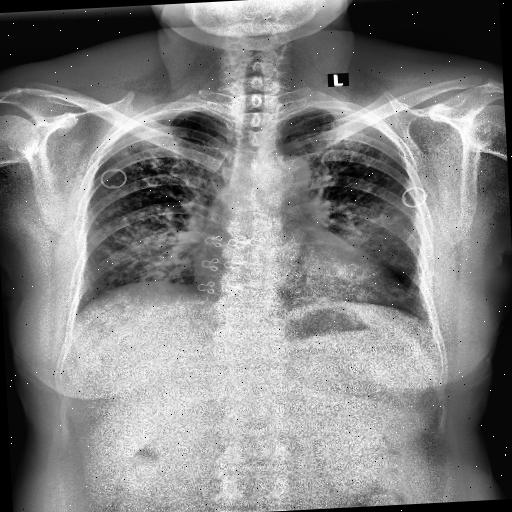0- Aortic enlargement: (254, 152, 315, 200), (245, 154, 307, 190), (266, 153, 312, 194)
3- Cardiomegaly: (194, 244, 410, 324), (192, 238, 403, 318), (194, 249, 408, 324)
5- ILD: (79, 148, 226, 292), (336, 166, 420, 282), (98, 182, 182, 290)
6- Infiltration: (84, 186, 202, 296), (338, 190, 428, 282)
